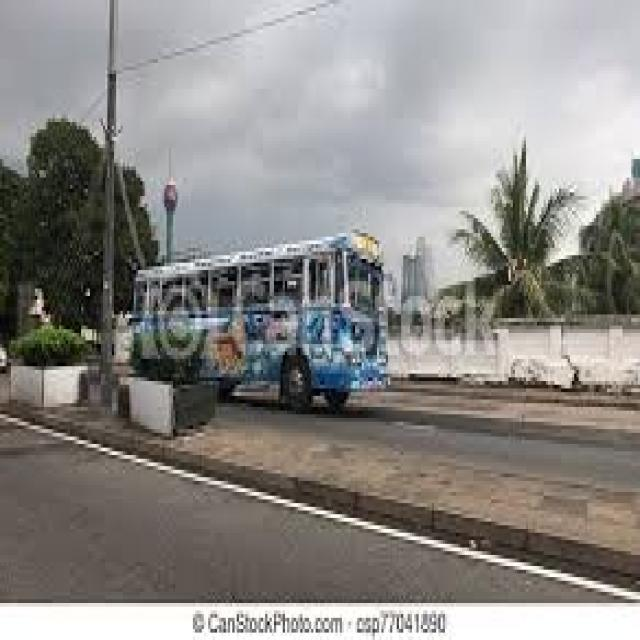bus: (134, 237, 384, 407)
